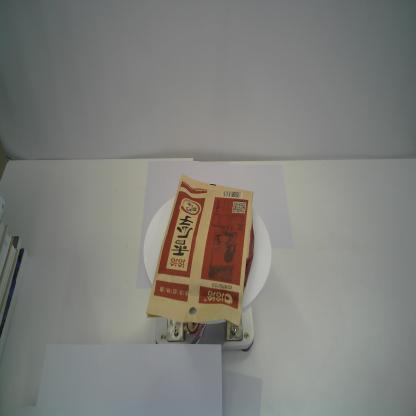Dried Food: (146, 172, 254, 329)
